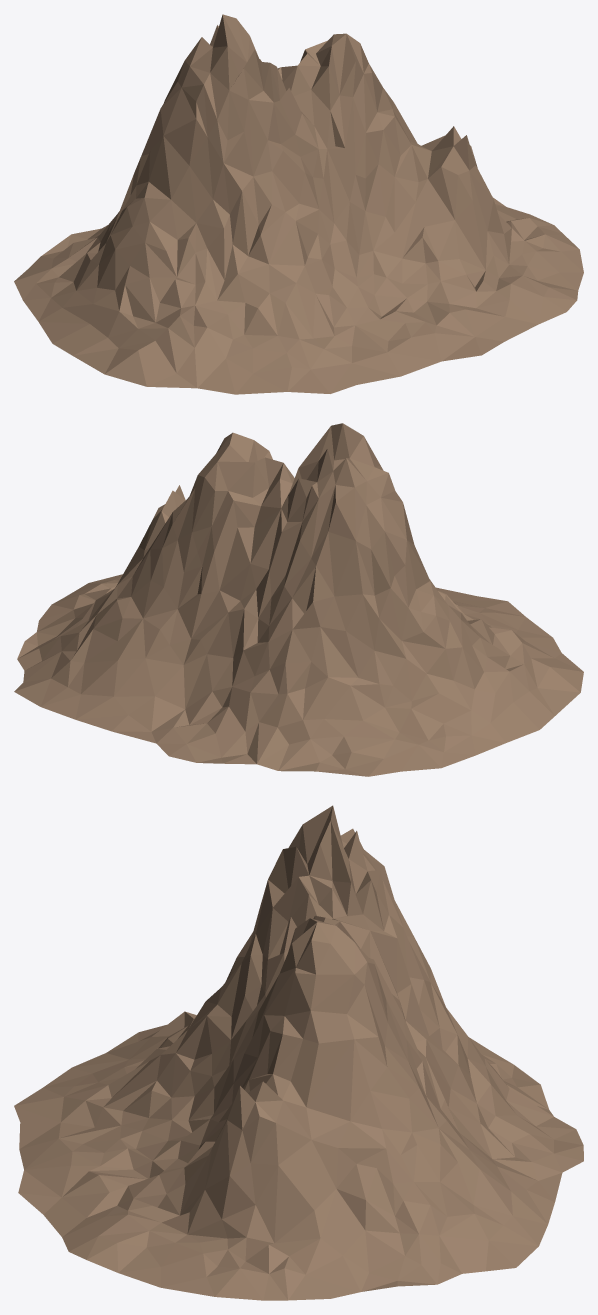
Rendered from Mountain_02.fbx.
3 views of the same model, one above another, from view 1: azimuth 30°, elevation 25°; view 2: azimuth 150°, elevation 25°; view 3: azimuth 270°, elevation 25° (orthographic). The views are drawn at different scales.
Visible parts, largest first — view 1: Mountain_02; view 2: Mountain_02; view 3: Mountain_02.
Part boxes in pixels (left/top/right/bottom): Mountain_02: left=14, top=14, right=583, bottom=394; Mountain_02: left=14, top=423, right=583, bottom=776; Mountain_02: left=14, top=805, right=583, bottom=1300.
Size of the model in its own units: 12851 by 6811 by 10973.
